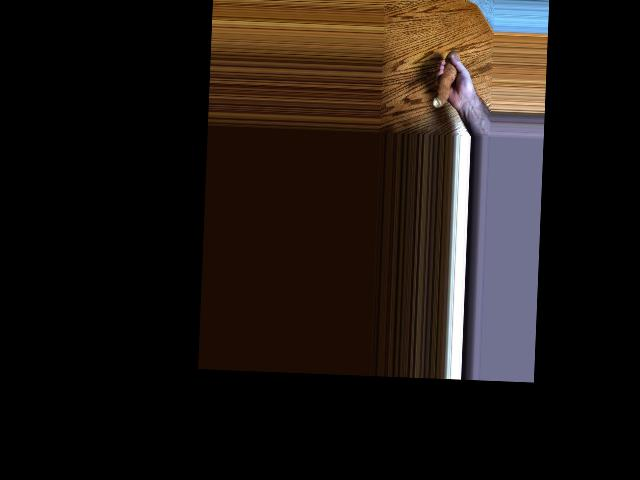sweet_potato: (433, 47, 459, 112)
